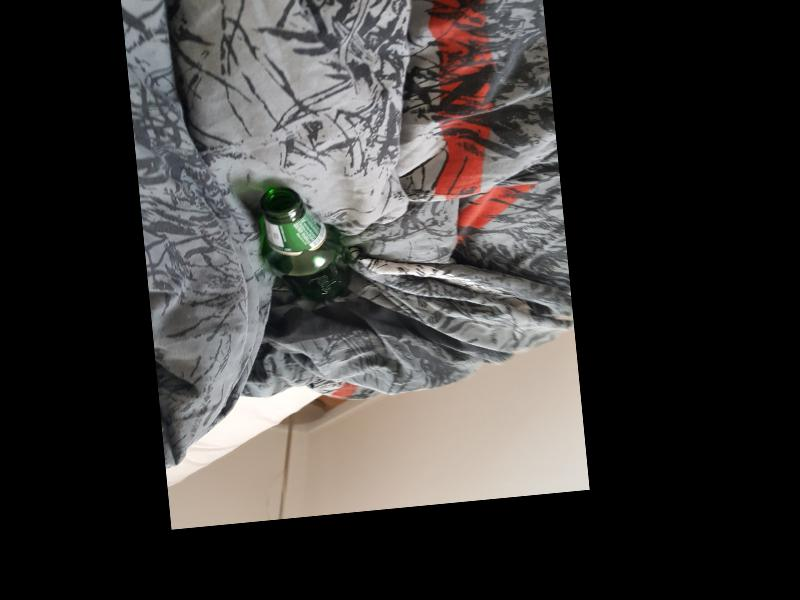Beer: (255, 180, 352, 307)
